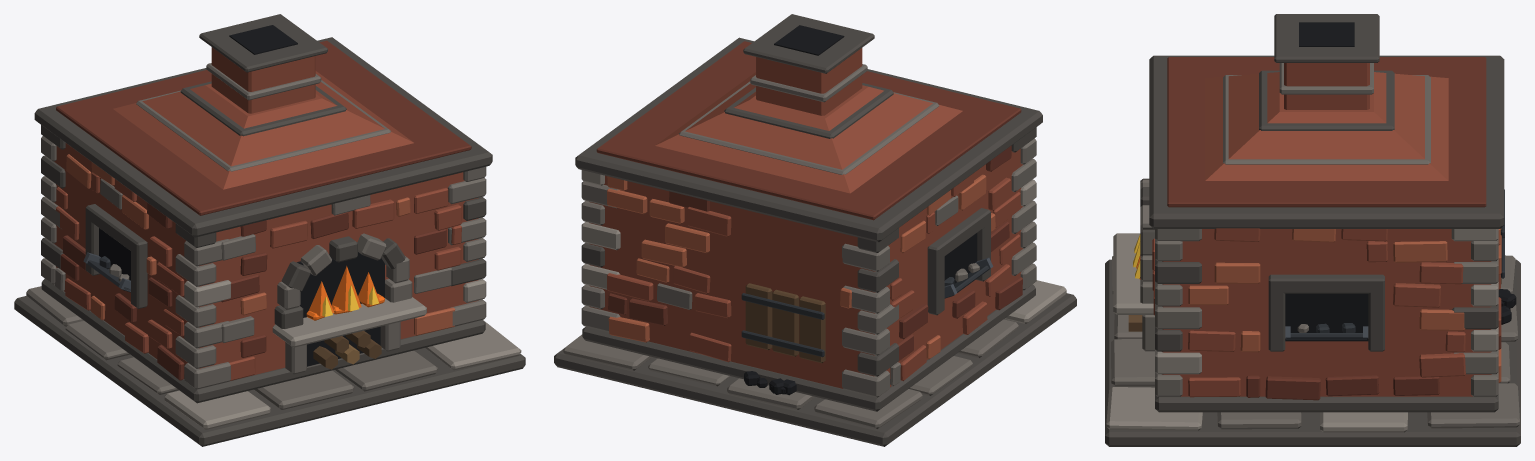
Rendered from fourneau_t1.glb.
3 views of the same model, side by side, from view 1: azimuth 30°, elevation 25°; view 2: azimuth 150°, elevation 25°; view 3: azimuth 270°, elevation 25° (orthographic). The views are drawn at different scales.
Parts seen in each view (by area): view 1: pieces_pierre.004, corps.002, dessus.002, hotte.002, corniche.002, dalle.004, pieces_brique.002, pieces_pierre_sombre.002, pieces_pierre_claire.002, pieces_brique_sombre.004, soubassement.002, cheminee.002 (+11 smaller); view 2: corps.002, pieces_pierre.004, dessus.002, hotte.002, corniche.002, dalle.004, pieces_brique.002, pieces_brique_claire.004, soubassement.002, pieces_pierre_sombre.002, pieces_brique_sombre.004, pieces_bois_sombre.002 (+9 smaller); view 3: corps.002, dessus.002, hotte.002, pieces_pierre.004, corniche.002, dalle.004, pieces_pierre_claire.002, pieces_brique.002, pieces_pierre_sombre.002, soubassement.002, pieces_brique_claire.004, cheminee_chapeau.002 (+9 smaller).
Part boxes in pixels (x1,y1,x2,y2): pieces_pierre.004: (26, 136, 486, 409); corps.002: (54, 143, 478, 378); dessus.002: (56, 40, 471, 215); hotte.002: (113, 71, 413, 189); corniche.002: (34, 37, 492, 237); dalle.004: (14, 295, 525, 446); pieces_brique.002: (55, 172, 461, 380); pieces_pierre_sombre.002: (41, 125, 486, 328); pieces_pierre_claire.002: (164, 279, 521, 429); pieces_brique_sombre.004: (60, 202, 446, 380); soubassement.002: (41, 278, 485, 403); cheminee.002: (211, 47, 315, 113); corps.002: (589, 149, 1023, 388); pieces_pierre.004: (563, 138, 1036, 428); dessus.002: (596, 41, 1021, 220); hotte.002: (655, 72, 962, 193); corniche.002: (575, 37, 1042, 242); dalle.004: (554, 293, 1076, 446); pieces_brique.002: (607, 173, 1020, 381); pieces_brique_claire.004: (607, 174, 995, 359); soubassement.002: (582, 284, 1035, 411); pieces_pierre_sombre.002: (581, 127, 1036, 376); pieces_brique_sombre.004: (608, 145, 1022, 360); pieces_bois_sombre.002: (745, 283, 825, 363); corps.002: (1162, 229, 1491, 396); dessus.002: (1167, 57, 1486, 207); hotte.002: (1205, 72, 1448, 180); pieces_pierre.004: (1111, 180, 1519, 429); corniche.002: (1149, 55, 1504, 228); dalle.004: (1105, 259, 1520, 446); pieces_pierre_claire.002: (1106, 229, 1498, 432); pieces_brique.002: (1152, 228, 1501, 397); pieces_pierre_sombre.002: (1140, 178, 1498, 351); soubassement.002: (1155, 395, 1498, 412); pieces_brique_claire.004: (1188, 229, 1501, 382); cheminee_chapeau.002: (1274, 14, 1379, 62).
Size of the model in its own units: 1.5 by 1.3 by 1.5.
